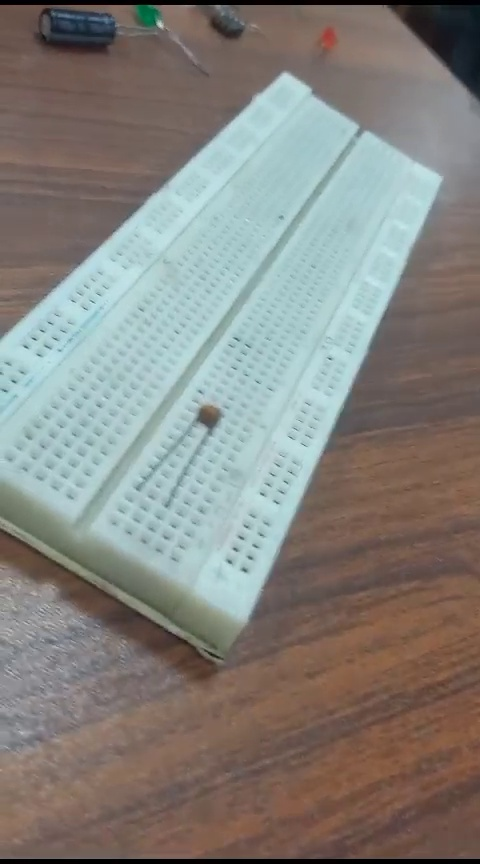ceramic capacitor: (142, 397, 226, 516)
